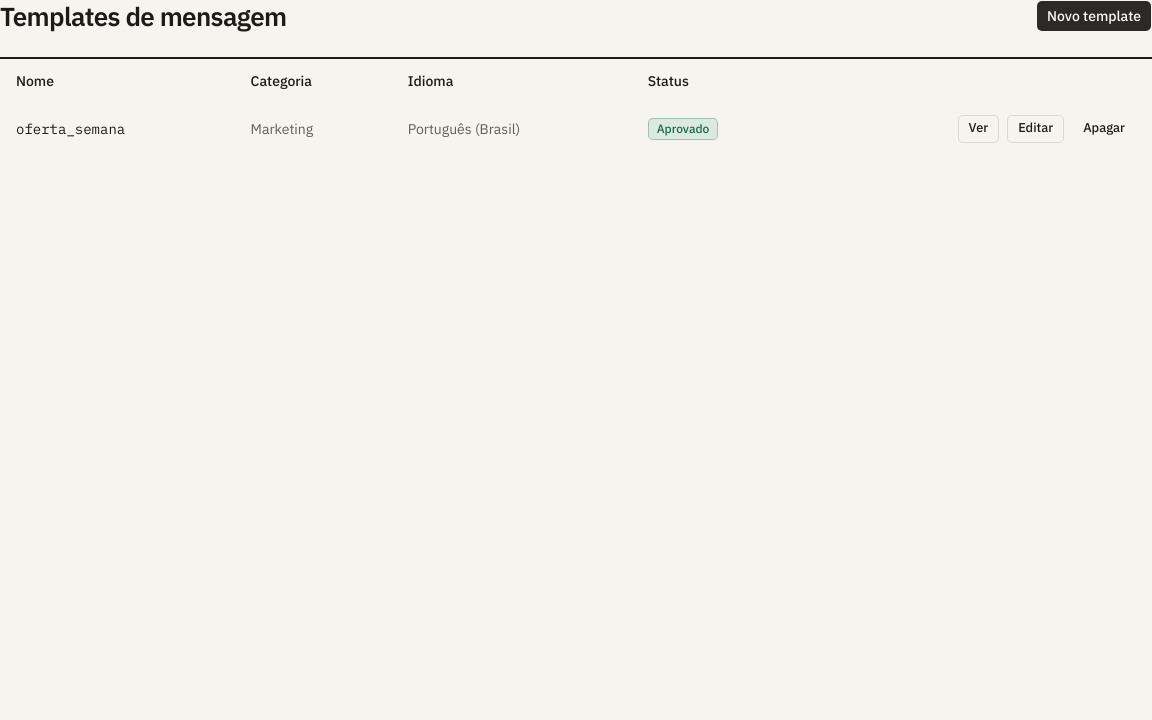
Test case: B54-01 — prévia do template › CA-B54-01: should pedir components à Meta e, ao clicar em Ver, mostrar cabeçalho, corpo com {{1}}, rodapé e os dois botões
Click the button with aria-label "Ver oferta_semana": [978, 128] box [958, 114, 999, 142]
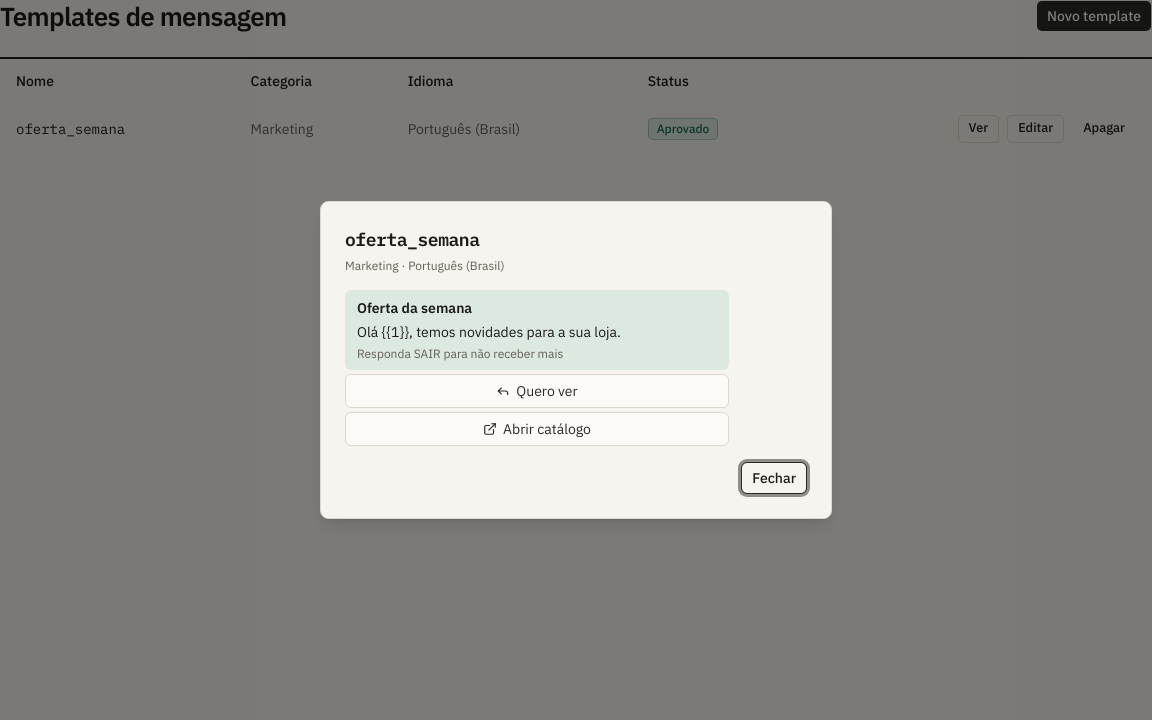
Now the text with test id "previa-cabecalho" reads "Oferta da semana", box [357, 299, 472, 317]
Now the text with test id "previa-corpo" reads "Olá {{1}}, temos novidades para a sua loja.", box [357, 323, 621, 341]
Now the text with test id "previa-rodape" reads "Responda SAIR para não receber mais", box [357, 346, 563, 361]
